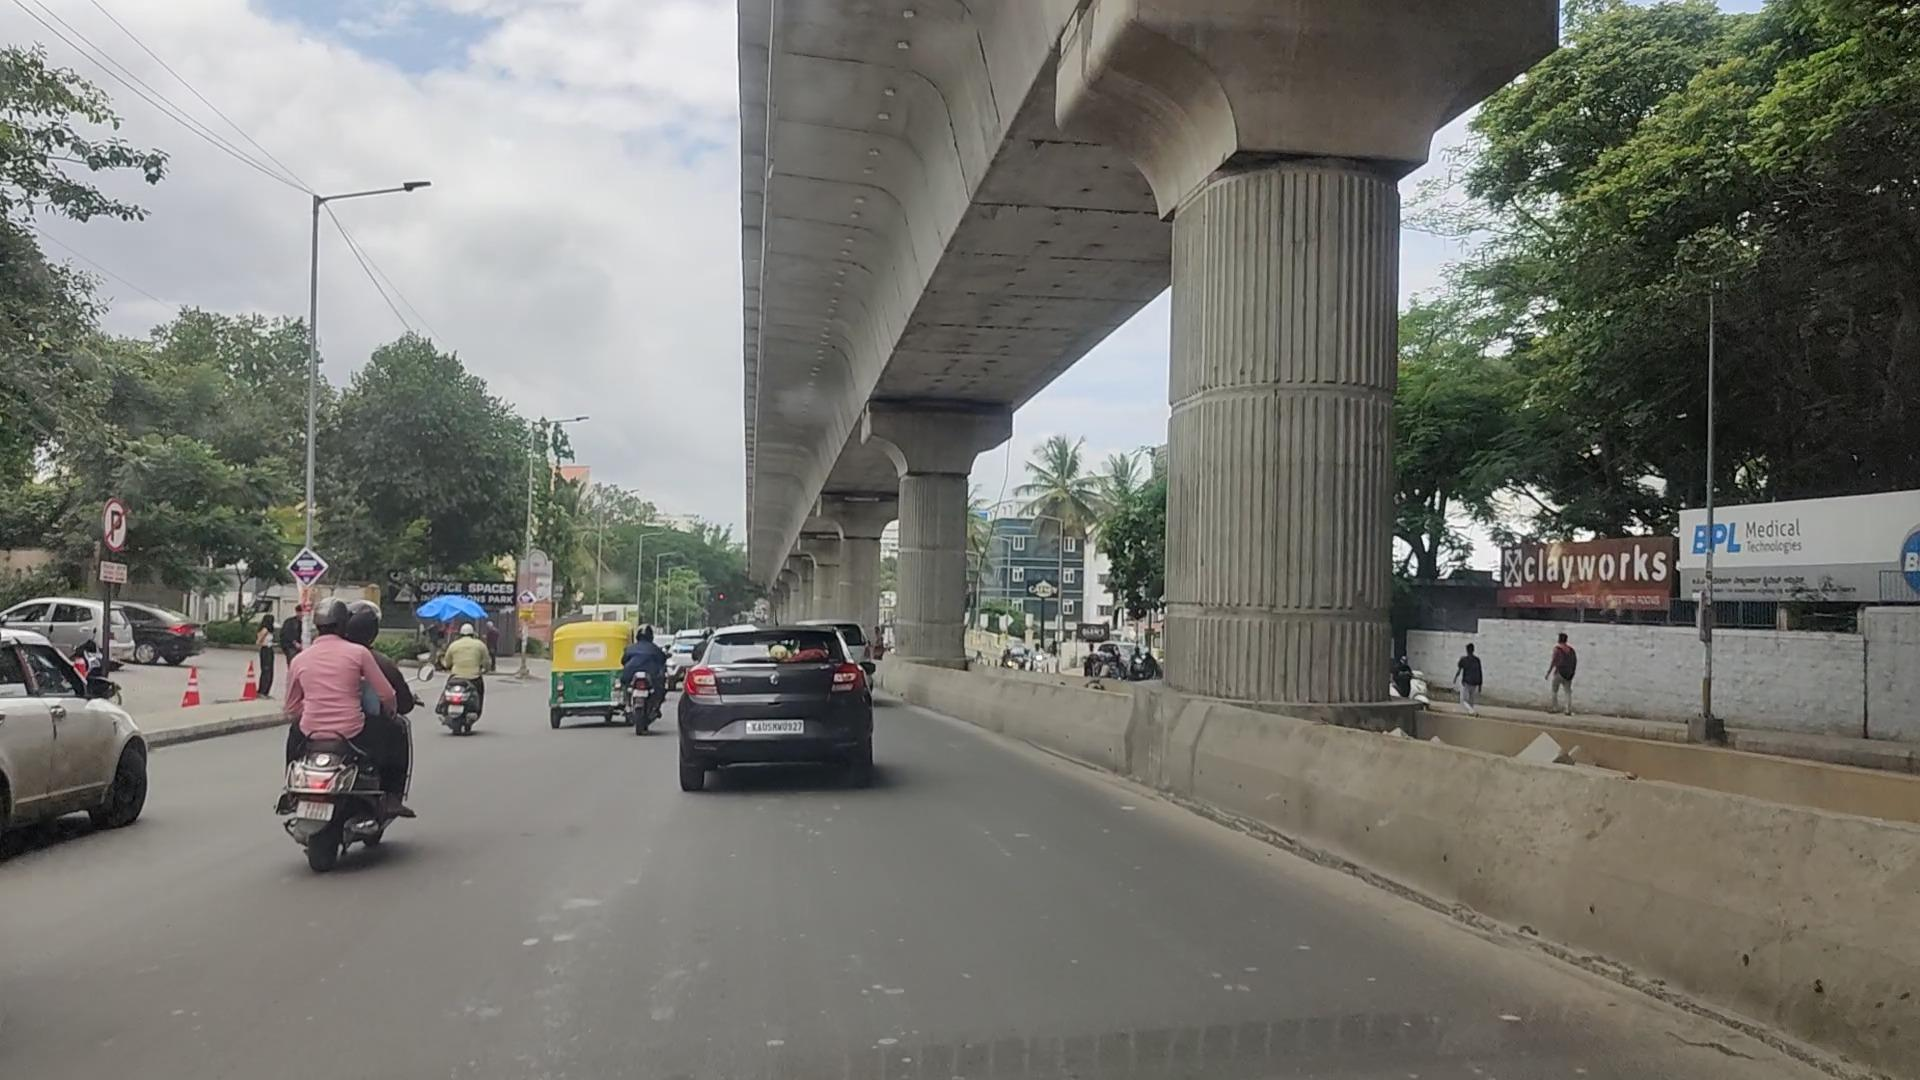LMV: (274, 580, 392, 880), (670, 625, 866, 802), (546, 625, 630, 723), (450, 621, 500, 735)
